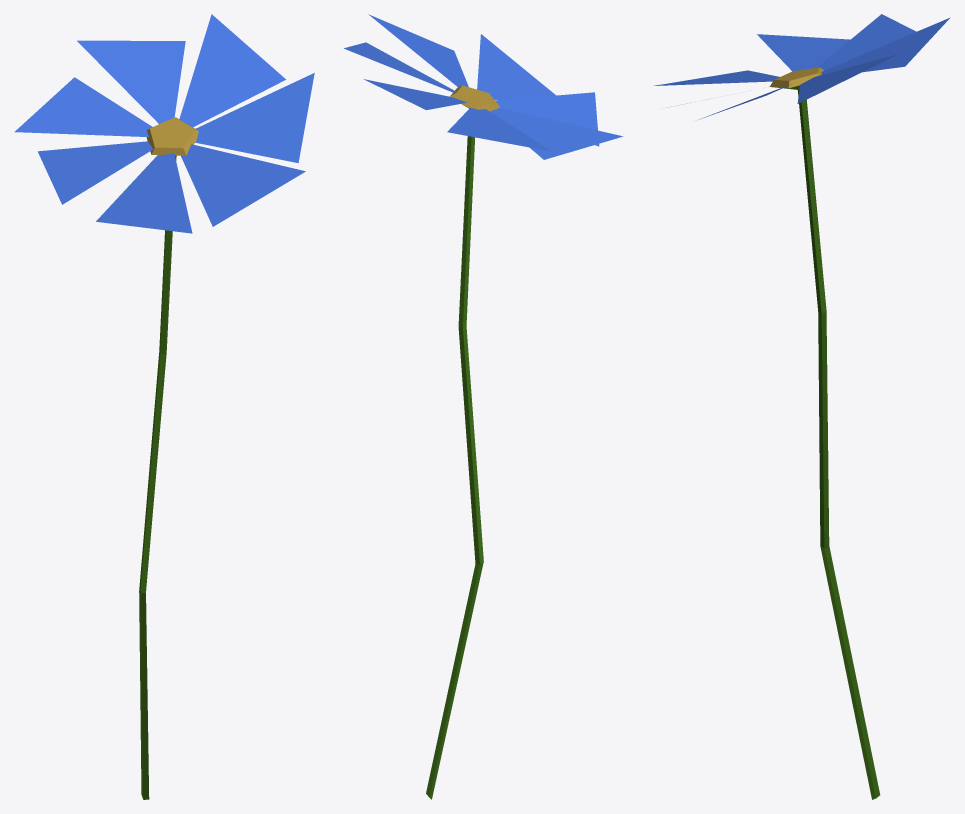
File: blue low poly flower.fbx
3 renders of one model, left to right at view 1: azimuth 30°, elevation 25°; view 2: azimuth 150°, elevation 25°; view 3: azimuth 270°, elevation 25°, orthographic. The views are drawn at different scales.
Visible parts, largest first — view 1: Circle.005, Circle.006; view 2: Circle.005, Circle.006; view 3: Circle.005, Circle.006.
Boxes of the visible parts, x1,y1,x2,y2 form: Circle.005: (14,14,314,233); Circle.006: (139,117,198,799); Circle.005: (344,14,623,159); Circle.006: (426,85,499,799); Circle.005: (654,14,950,119); Circle.006: (770,67,880,799).
Bounding box in the file's own units: 19.21 × 54.1 × 18.67.
